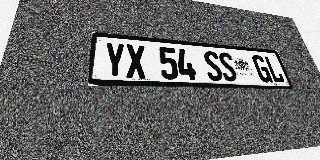4: (175, 48, 197, 80)
5: (158, 47, 180, 79)
G: (251, 54, 273, 82)
L: (263, 56, 285, 83)
S: (202, 50, 224, 81), (217, 52, 239, 81)
X: (126, 44, 147, 78)
Y: (104, 42, 126, 78)
